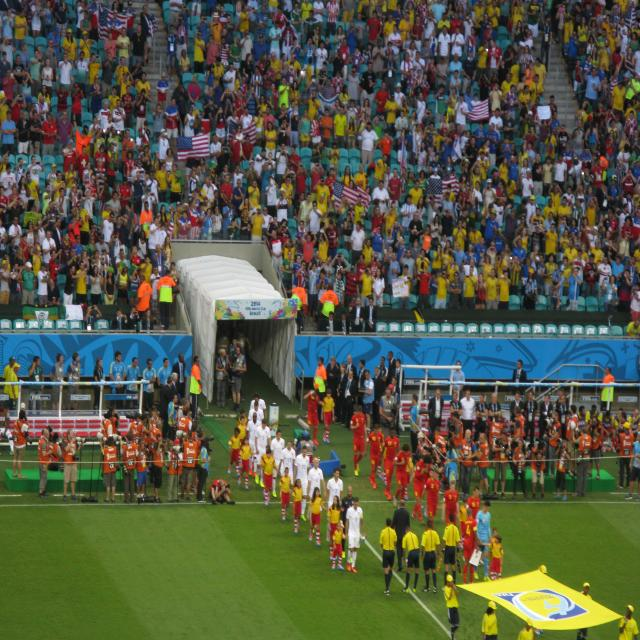body: (0, 2, 640, 286), (565, 267, 629, 451), (99, 404, 176, 446), (472, 500, 494, 582), (155, 268, 182, 334), (61, 426, 84, 502), (344, 496, 366, 574), (440, 512, 460, 592), (378, 516, 398, 596), (324, 467, 344, 543), (571, 425, 592, 497), (380, 426, 400, 501), (421, 520, 441, 594), (349, 404, 369, 477), (542, 411, 563, 480), (458, 428, 478, 500), (411, 454, 432, 522), (491, 428, 511, 499), (363, 423, 384, 490), (462, 507, 480, 585), (119, 432, 138, 504), (282, 284, 310, 332), (180, 429, 198, 503), (306, 486, 328, 546), (401, 525, 420, 594), (99, 436, 118, 504), (12, 409, 30, 480), (293, 446, 310, 521), (229, 344, 248, 411), (615, 422, 634, 489), (254, 418, 272, 488), (392, 443, 411, 509), (340, 486, 356, 564), (508, 405, 525, 478), (302, 387, 323, 446), (237, 435, 259, 490), (269, 428, 286, 499), (623, 431, 640, 502), (315, 282, 339, 332), (278, 438, 297, 501), (511, 437, 530, 500), (442, 574, 460, 640), (357, 370, 375, 436), (37, 428, 53, 500), (152, 432, 168, 504), (326, 494, 343, 560), (530, 438, 548, 500), (585, 416, 602, 480), (196, 437, 212, 504), (312, 357, 328, 423), (262, 448, 280, 506), (168, 438, 184, 503), (27, 355, 44, 416), (66, 352, 82, 416), (554, 440, 571, 500), (481, 534, 503, 580), (290, 478, 308, 534), (278, 466, 296, 522), (486, 412, 504, 468), (108, 351, 125, 410), (246, 412, 261, 478), (133, 275, 152, 327), (306, 260, 321, 325), (189, 355, 203, 424), (475, 432, 490, 496), (378, 386, 396, 439), (413, 261, 432, 311), (565, 404, 578, 477), (135, 437, 150, 500), (576, 581, 592, 640), (342, 370, 358, 429), (307, 456, 327, 502), (293, 430, 317, 468), (320, 387, 336, 444), (441, 480, 460, 528), (160, 376, 174, 441), (538, 393, 554, 449), (614, 412, 628, 476), (523, 389, 538, 448), (1, 356, 17, 411), (63, 265, 85, 305), (598, 408, 617, 454), (341, 262, 360, 308), (49, 352, 64, 410), (326, 356, 340, 418), (334, 363, 348, 425), (408, 394, 422, 456), (315, 268, 329, 330), (0, 400, 15, 456), (142, 358, 156, 418), (432, 442, 450, 488), (295, 259, 309, 318), (459, 389, 475, 439), (412, 421, 433, 459), (521, 268, 540, 310), (125, 357, 140, 410), (194, 429, 206, 495), (615, 268, 633, 312), (396, 264, 414, 308), (208, 478, 236, 506), (226, 336, 238, 401), (444, 437, 460, 485), (227, 426, 242, 477), (19, 261, 36, 306), (618, 604, 639, 640), (601, 274, 618, 318), (428, 389, 444, 435), (582, 252, 598, 298), (331, 522, 346, 571), (92, 357, 104, 417), (475, 394, 490, 442), (414, 248, 431, 290), (0, 260, 16, 304), (359, 266, 375, 310), (449, 410, 464, 456), (571, 250, 586, 296), (216, 347, 227, 409), (597, 255, 612, 300), (484, 268, 500, 310), (434, 269, 451, 308), (281, 249, 294, 300), (600, 367, 615, 411), (172, 353, 186, 400), (560, 256, 572, 310), (607, 250, 625, 286), (533, 252, 548, 295), (556, 395, 570, 441), (37, 261, 51, 307), (548, 262, 562, 308), (387, 251, 401, 297), (542, 252, 556, 298), (482, 600, 498, 640), (449, 360, 465, 400), (388, 384, 400, 437), (390, 375, 400, 437), (150, 263, 160, 325), (548, 264, 562, 308), (462, 266, 476, 310), (488, 392, 507, 424), (167, 394, 178, 449), (116, 262, 130, 305), (497, 270, 512, 310), (128, 262, 141, 308), (487, 527, 498, 581), (458, 495, 469, 549), (350, 296, 366, 333), (169, 262, 179, 321), (373, 366, 383, 424), (9, 362, 21, 410), (508, 255, 522, 296), (90, 265, 104, 305), (424, 467, 435, 517), (512, 358, 527, 394), (629, 283, 640, 331), (466, 486, 481, 521), (624, 256, 639, 291), (83, 304, 103, 330), (372, 268, 385, 308), (364, 296, 378, 333), (76, 262, 88, 305), (399, 248, 415, 280), (215, 331, 247, 347), (151, 244, 166, 278), (433, 426, 447, 462), (289, 254, 303, 290), (404, 456, 415, 501), (510, 390, 525, 422), (104, 266, 116, 306), (177, 398, 191, 431), (379, 252, 390, 294), (156, 358, 172, 386), (392, 358, 404, 395), (46, 278, 61, 307), (376, 424, 384, 478), (627, 408, 640, 441), (140, 253, 153, 286), (516, 618, 535, 640), (449, 271, 462, 303), (585, 404, 603, 427), (110, 307, 128, 330), (322, 311, 339, 335), (178, 406, 193, 433), (10, 261, 22, 294), (518, 257, 536, 279), (253, 392, 267, 420), (49, 432, 62, 462), (248, 400, 264, 424), (475, 272, 485, 310), (386, 351, 396, 388), (345, 354, 358, 382), (236, 415, 248, 445), (450, 390, 462, 420), (127, 303, 140, 330), (556, 387, 569, 412), (335, 272, 345, 304), (141, 309, 154, 333), (356, 359, 366, 389), (413, 454, 425, 476), (338, 311, 350, 333), (378, 356, 388, 382), (626, 319, 640, 337), (576, 405, 586, 429), (614, 407, 624, 429), (429, 270, 438, 294), (170, 372, 179, 395), (238, 408, 249, 424), (227, 367, 232, 399), (191, 422, 198, 442), (46, 425, 54, 442), (538, 564, 548, 575), (240, 390, 247, 401), (335, 362, 340, 371)
